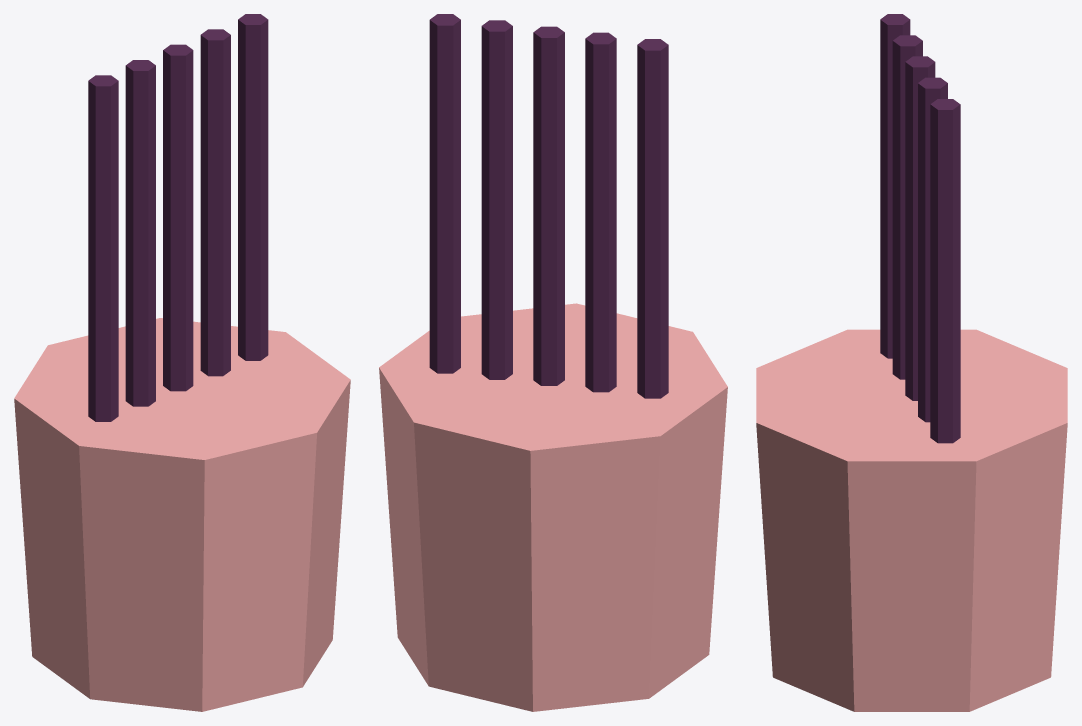
The model's file is pens.obj.
3 renders of one model, left to right at view 1: azimuth 30°, elevation 25°; view 2: azimuth 150°, elevation 25°; view 3: azimuth 270°, elevation 25°, orthographic. The views are drawn at different scales.
Visible parts, largest first — view 1: pen-cup, friendly-pen-3, friendly-pen-4, friendly-pen-1, friendly-pen-5, friendly-pen-2; view 2: pen-cup, friendly-pen-2, friendly-pen-1, friendly-pen-4, friendly-pen-5, friendly-pen-3; view 3: pen-cup, friendly-pen-5, friendly-pen-2, friendly-pen-1, friendly-pen-3, friendly-pen-4.
Boxes of the visible parts, x1,y1,x2,y2 form: pen-cup: (14,318,350,711); friendly-pen-3: (163,44,193,391); friendly-pen-4: (200,29,230,376); friendly-pen-1: (88,75,118,421); friendly-pen-5: (238,14,268,360); friendly-pen-2: (125,60,155,406); pen-cup: (379,303,727,711); friendly-pen-2: (585,32,616,392); friendly-pen-1: (637,39,668,398); friendly-pen-4: (481,20,512,379); friendly-pen-5: (429,14,460,373); friendly-pen-3: (533,26,564,385); pen-cup: (756,329,1067,711); friendly-pen-5: (930,99,960,443); friendly-pen-2: (892,35,922,379); friendly-pen-1: (880,14,910,358); friendly-pen-3: (905,56,935,400); friendly-pen-4: (918,77,947,422).
Size of the model in its own units: 0.3726 by 0.78 by 0.3726.
